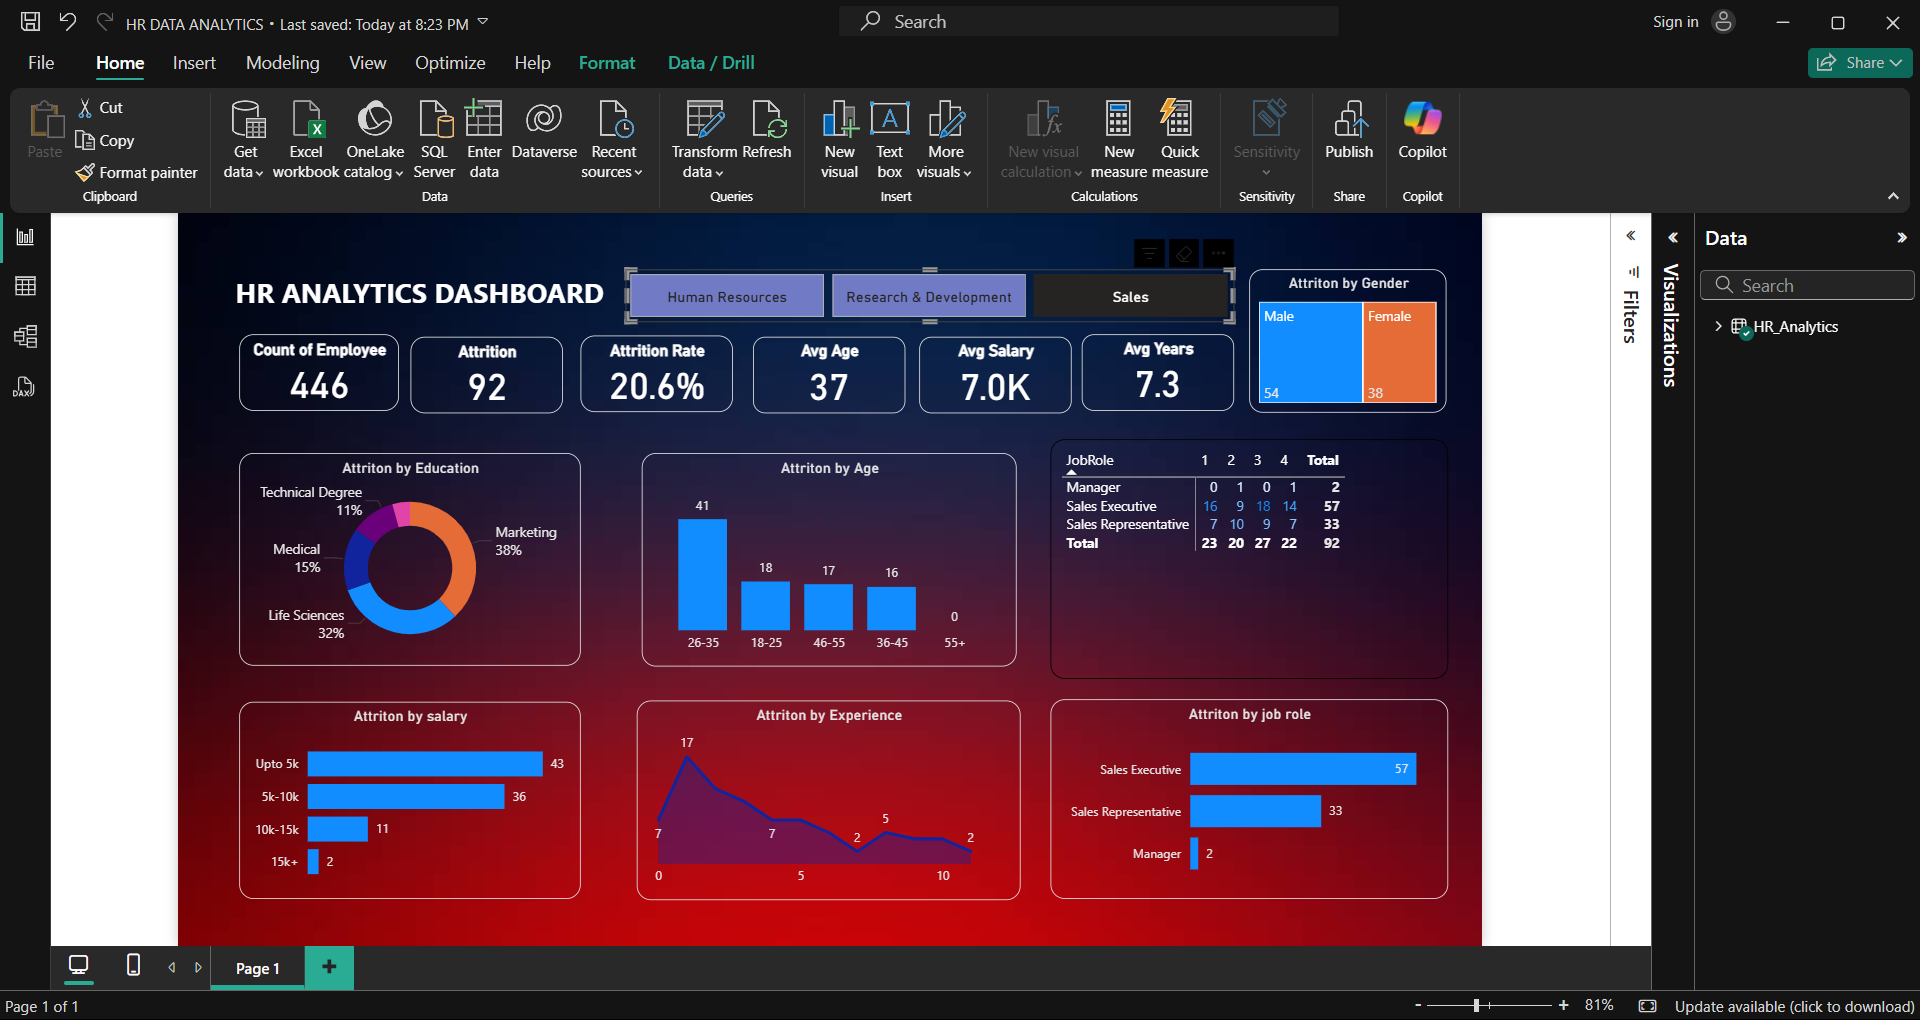

Layout of this report page (visuals, bound fields, positions):
{"tool":"powerbi","page":{"name":"Page 1","canvas":[1280,720],"ordinal":0},"visuals":[{"type":"card","title":"Count of Employee","fields":{"Values":["CountNonNull(HR_Analytics.EmpID)"]},"box":[60.1,119,157.1,74.8],"z":0},{"type":"card","title":"Attrition","fields":{"Values":["Sum(HR_Analytics.AttritionCount)"]},"box":[228.2,121.5,149.7,74.8],"z":1000},{"type":"card","title":"Attrition Rate","fields":{"Values":["HR_Analytics.AttritionRate"]},"box":[395.1,120.2,149.7,74.8],"z":2000},{"type":"card","title":"Avg Age","fields":{"Values":["Avg(HR_Analytics.Age)"]},"box":[564.4,121.5,149.7,74.8],"z":3000},{"type":"card","title":"Avg Salary","fields":{"Values":["Avg(HR_Analytics.MonthlyIncome)"]},"box":[727.6,121.5,149.7,74.8],"z":4000},{"type":"card","title":"Avg Years","fields":{"Values":["Avg(HR_Analytics.YearsAtCompany)"]},"box":[887.1,119,149.7,74.8],"z":5000},{"type":"donutChart","title":"Attriton by Education","fields":{"Category":["HR_Analytics.EducationField"],"Y":["Sum(HR_Analytics.AttritionCount)"]},"box":[60.1,235.6,335,208.6],"z":6000},{"type":"columnChart","title":"Attriton by Age","fields":{"Category":["HR_Analytics.AgeGroup"],"Y":["Sum(HR_Analytics.AttritionCount)"]},"box":[455.2,235.6,368.1,209.8],"z":7000},{"type":"pivotTable","fields":{"Rows":["HR_Analytics.JobRole"],"Columns":["HR_Analytics.JobSatisfaction"],"Values":["Sum(HR_Analytics.AttritionCount)"]},"box":[856.4,222.1,390.2,235.6],"z":8000},{"type":"barChart","title":"Attriton by salary","fields":{"Category":["HR_Analytics.SalarySlab"],"Y":["Sum(HR_Analytics.AttritionCount)"]},"box":[60.1,479.8,335,193.9],"z":9000},{"type":"barChart","title":"Attriton by job role","fields":{"Category":["HR_Analytics.JobRole"],"Y":["Sum(HR_Analytics.AttritionCount)"]},"box":[856.4,477.3,390.2,196.3],"z":10000},{"type":"areaChart","title":"Attriton by Experience","fields":{"Category":["HR_Analytics.YearsAtCompany"],"Y":["Sum(HR_Analytics.AttritionCount)"]},"box":[450.3,478.5,376.7,196.3],"z":11000},{"type":"treemap","title":"Attriton by Gender","fields":{"Group":["HR_Analytics.Gender"],"Values":["Sum(HR_Analytics.AttritionCount)"]},"box":[1051.5,55.2,193.9,141.1],"z":12000},{"type":"advancedSlicerVisual","fields":{"Values":["HR_Analytics.Department"]},"box":[439.3,55.2,597.5,52.8],"z":13000},{"type":"textbox","box":[51.5,55.2,387.7,52.8],"z":14000}]}

Visuals, with their boxes on the page's 1280x720 design canvas (x1, y1, x2, y2). These are canvas units, not pixel positions in the 1920x1020 screenshot, which may show the page scaled, cropped or inside an application window:
"Count of Employee" card: <region>60, 119, 217, 194</region>
"Attrition" card: <region>228, 122, 378, 196</region>
"Attrition Rate" card: <region>395, 120, 545, 195</region>
"Avg Age" card: <region>564, 122, 714, 196</region>
"Avg Salary" card: <region>728, 122, 877, 196</region>
"Avg Years" card: <region>887, 119, 1037, 194</region>
"Attriton by Education" donutChart: <region>60, 236, 395, 444</region>
"Attriton by Age" columnChart: <region>455, 236, 823, 445</region>
pivotTable - HR_Analytics.JobRole x HR_Analytics.JobSatisfaction: <region>856, 222, 1247, 458</region>
"Attriton by salary" barChart: <region>60, 480, 395, 674</region>
"Attriton by job role" barChart: <region>856, 477, 1247, 674</region>
"Attriton by Experience" areaChart: <region>450, 478, 827, 675</region>
"Attriton by Gender" treemap: <region>1052, 55, 1245, 196</region>
advancedSlicerVisual - HR_Analytics.Department: <region>439, 55, 1037, 108</region>
textbox: <region>52, 55, 439, 108</region>
